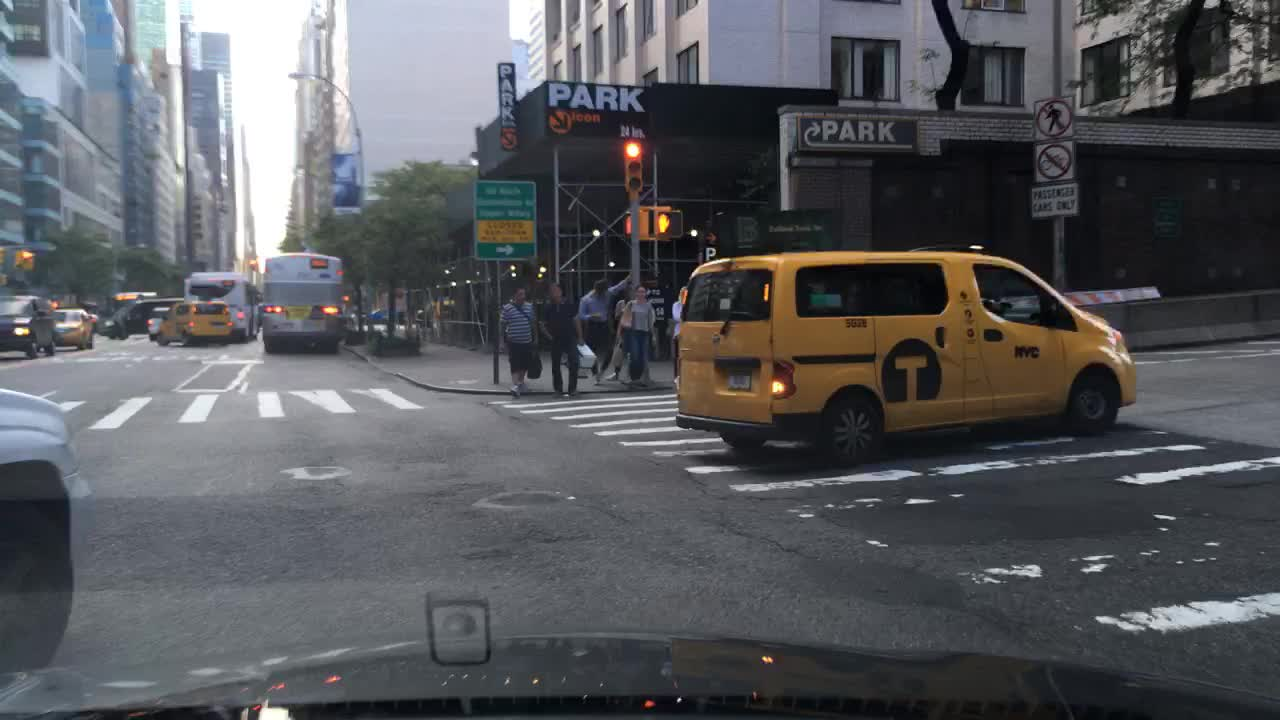bus: (181, 268, 259, 337)
car: (672, 244, 1142, 460), (0, 378, 82, 678), (259, 250, 347, 353), (2, 288, 56, 357), (156, 293, 232, 342), (102, 289, 166, 341), (53, 300, 98, 348), (143, 303, 170, 337)
person: (538, 275, 590, 398), (496, 283, 548, 398), (574, 278, 619, 386), (624, 285, 663, 387), (664, 284, 697, 396), (609, 292, 630, 383)
traffic light: (16, 251, 34, 269)
traffic sign: (472, 180, 538, 262), (1032, 94, 1073, 141), (1032, 184, 1079, 215), (1036, 147, 1075, 178)
